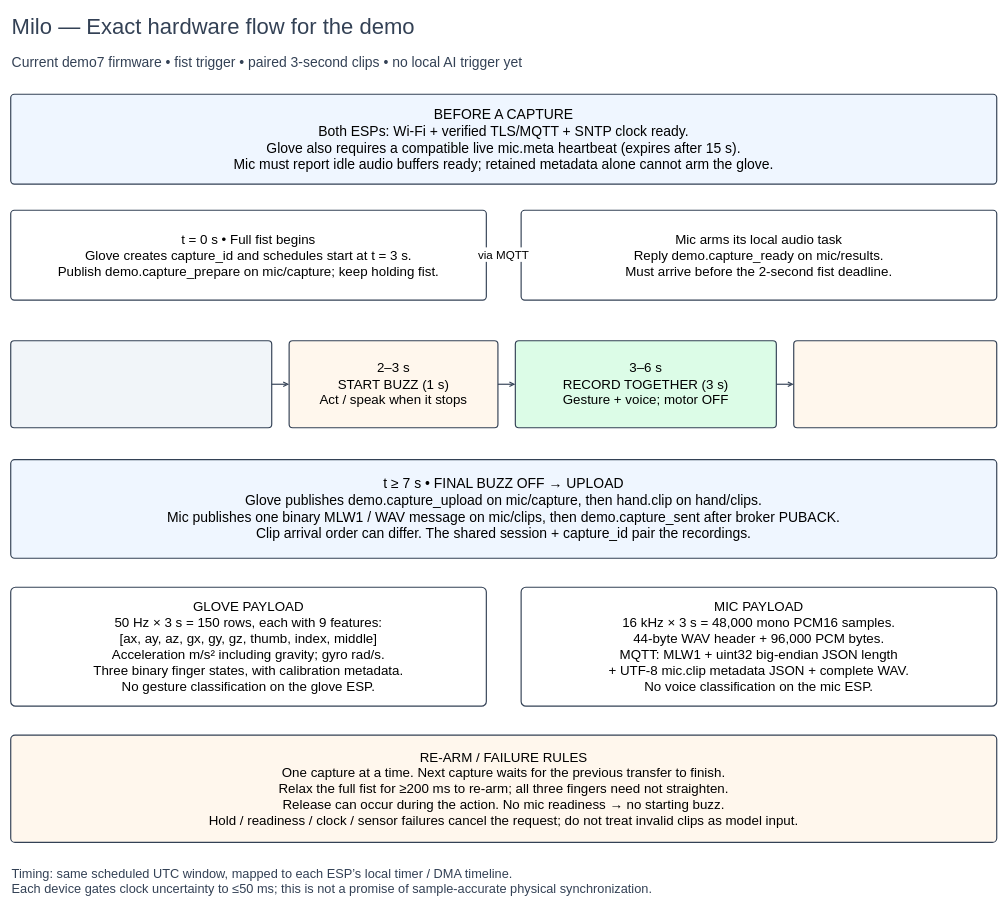
The diagram is 1007 pixels wide and 913 high, and some of its shapes have lost their labels. The centre of each missing label's shape, as x and y in pixels:
"0–2 s Hold full fist Mic prepares / acknowledges" belongs at (141,384).
"6–7 s END BUZZ (1 s) Clips held locally" belongs at (895,384).
